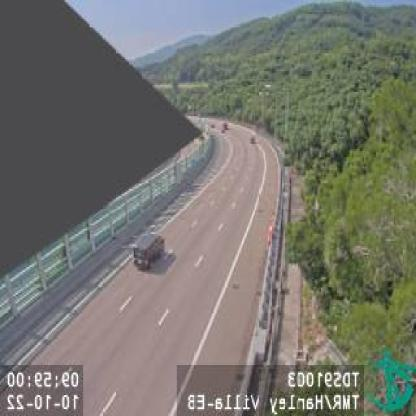Car: (132, 230, 167, 271)
